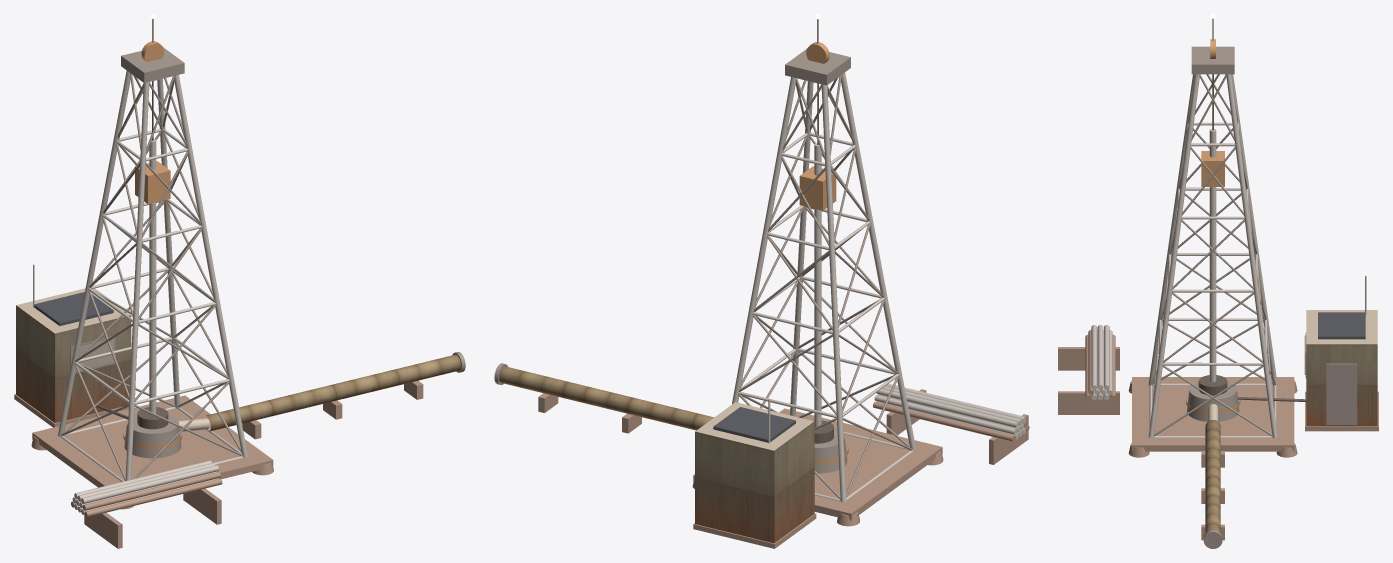
The model's file is E11_ice_drill_rig.glb.
3 renders of one model, left to right at view 1: azimuth 30°, elevation 25°; view 2: azimuth 150°, elevation 25°; view 3: azimuth 270°, elevation 25°, orthographic. The views are drawn at different scales.
Visible parts, largest first — view 1: derrick_leg, deck, brace, cabin, insulated_pipe, sheave, window; view 2: derrick_leg, brace, cabin, deck, insulated_pipe, sheave; view 3: deck, derrick_leg, brace, cabin, sheave, insulated_pipe.
Part boxes in pixels (box(x1,y1,x2,y2)): derrick_leg: box(33, 19, 247, 514); deck: box(14, 380, 423, 548); brace: box(34, 47, 465, 480); cabin: box(16, 305, 131, 422); insulated_pipe: box(206, 354, 460, 431); sheave: box(16, 41, 209, 449); window: box(73, 338, 114, 371); derrick_leg: box(732, 19, 1025, 502); brace: box(494, 49, 912, 499); cabin: box(695, 421, 814, 543); deck: box(538, 389, 1029, 548); insulated_pipe: box(499, 366, 713, 430); sheave: box(695, 42, 848, 464); deck: box(1058, 330, 1378, 540); derrick_leg: box(1091, 18, 1366, 438); brace: box(1150, 46, 1365, 548); cabin: box(1306, 344, 1377, 426); sheave: box(1186, 39, 1377, 421); insulated_pipe: box(1205, 420, 1220, 533).
Bounding box in the file's own units: 9.84 × 9.43 × 6.72.
Materials: 8 (2 with a texture image).
